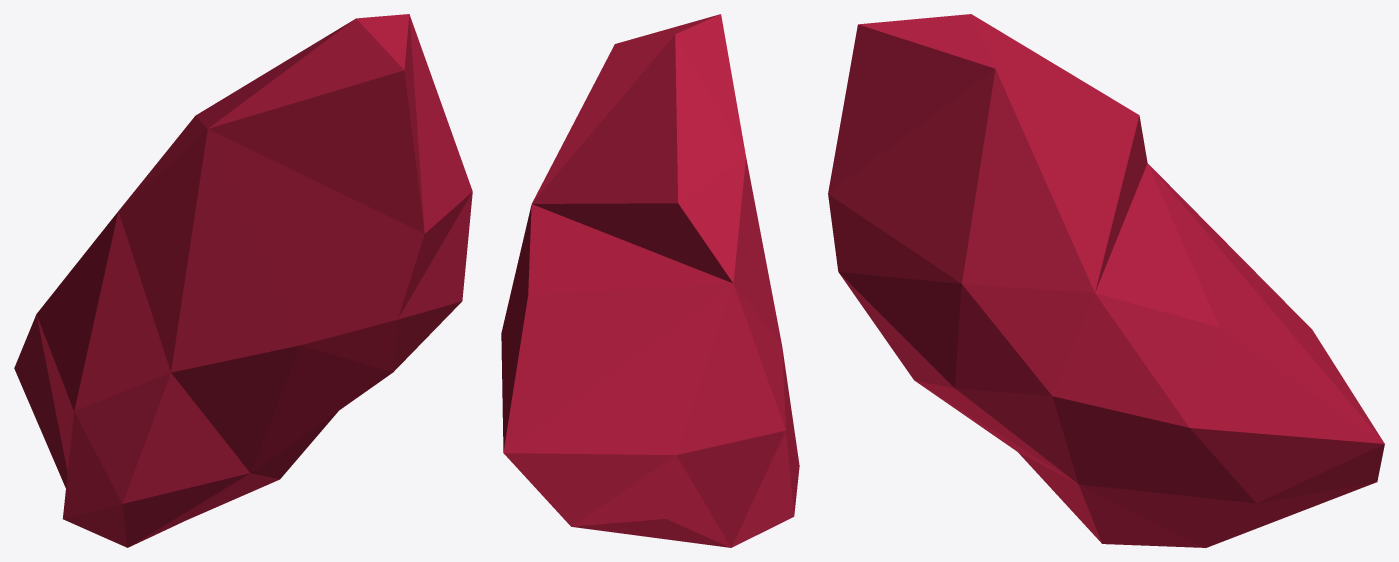
Rendered from Model_10462_LH__Trochlear_nucleus_(4N).obj.
3 renders of one model, left to right at view 1: azimuth 30°, elevation 25°; view 2: azimuth 150°, elevation 25°; view 3: azimuth 270°, elevation 25°, orthographic. The views are drawn at different scales.
Bounding box in the file's own units: 0.1753 × 0.2497 × 0.2188.
